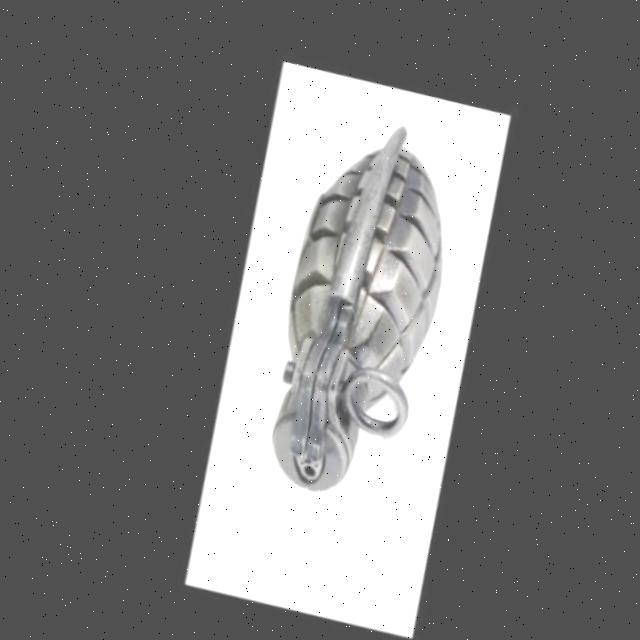grenade: (221, 77, 506, 539)
